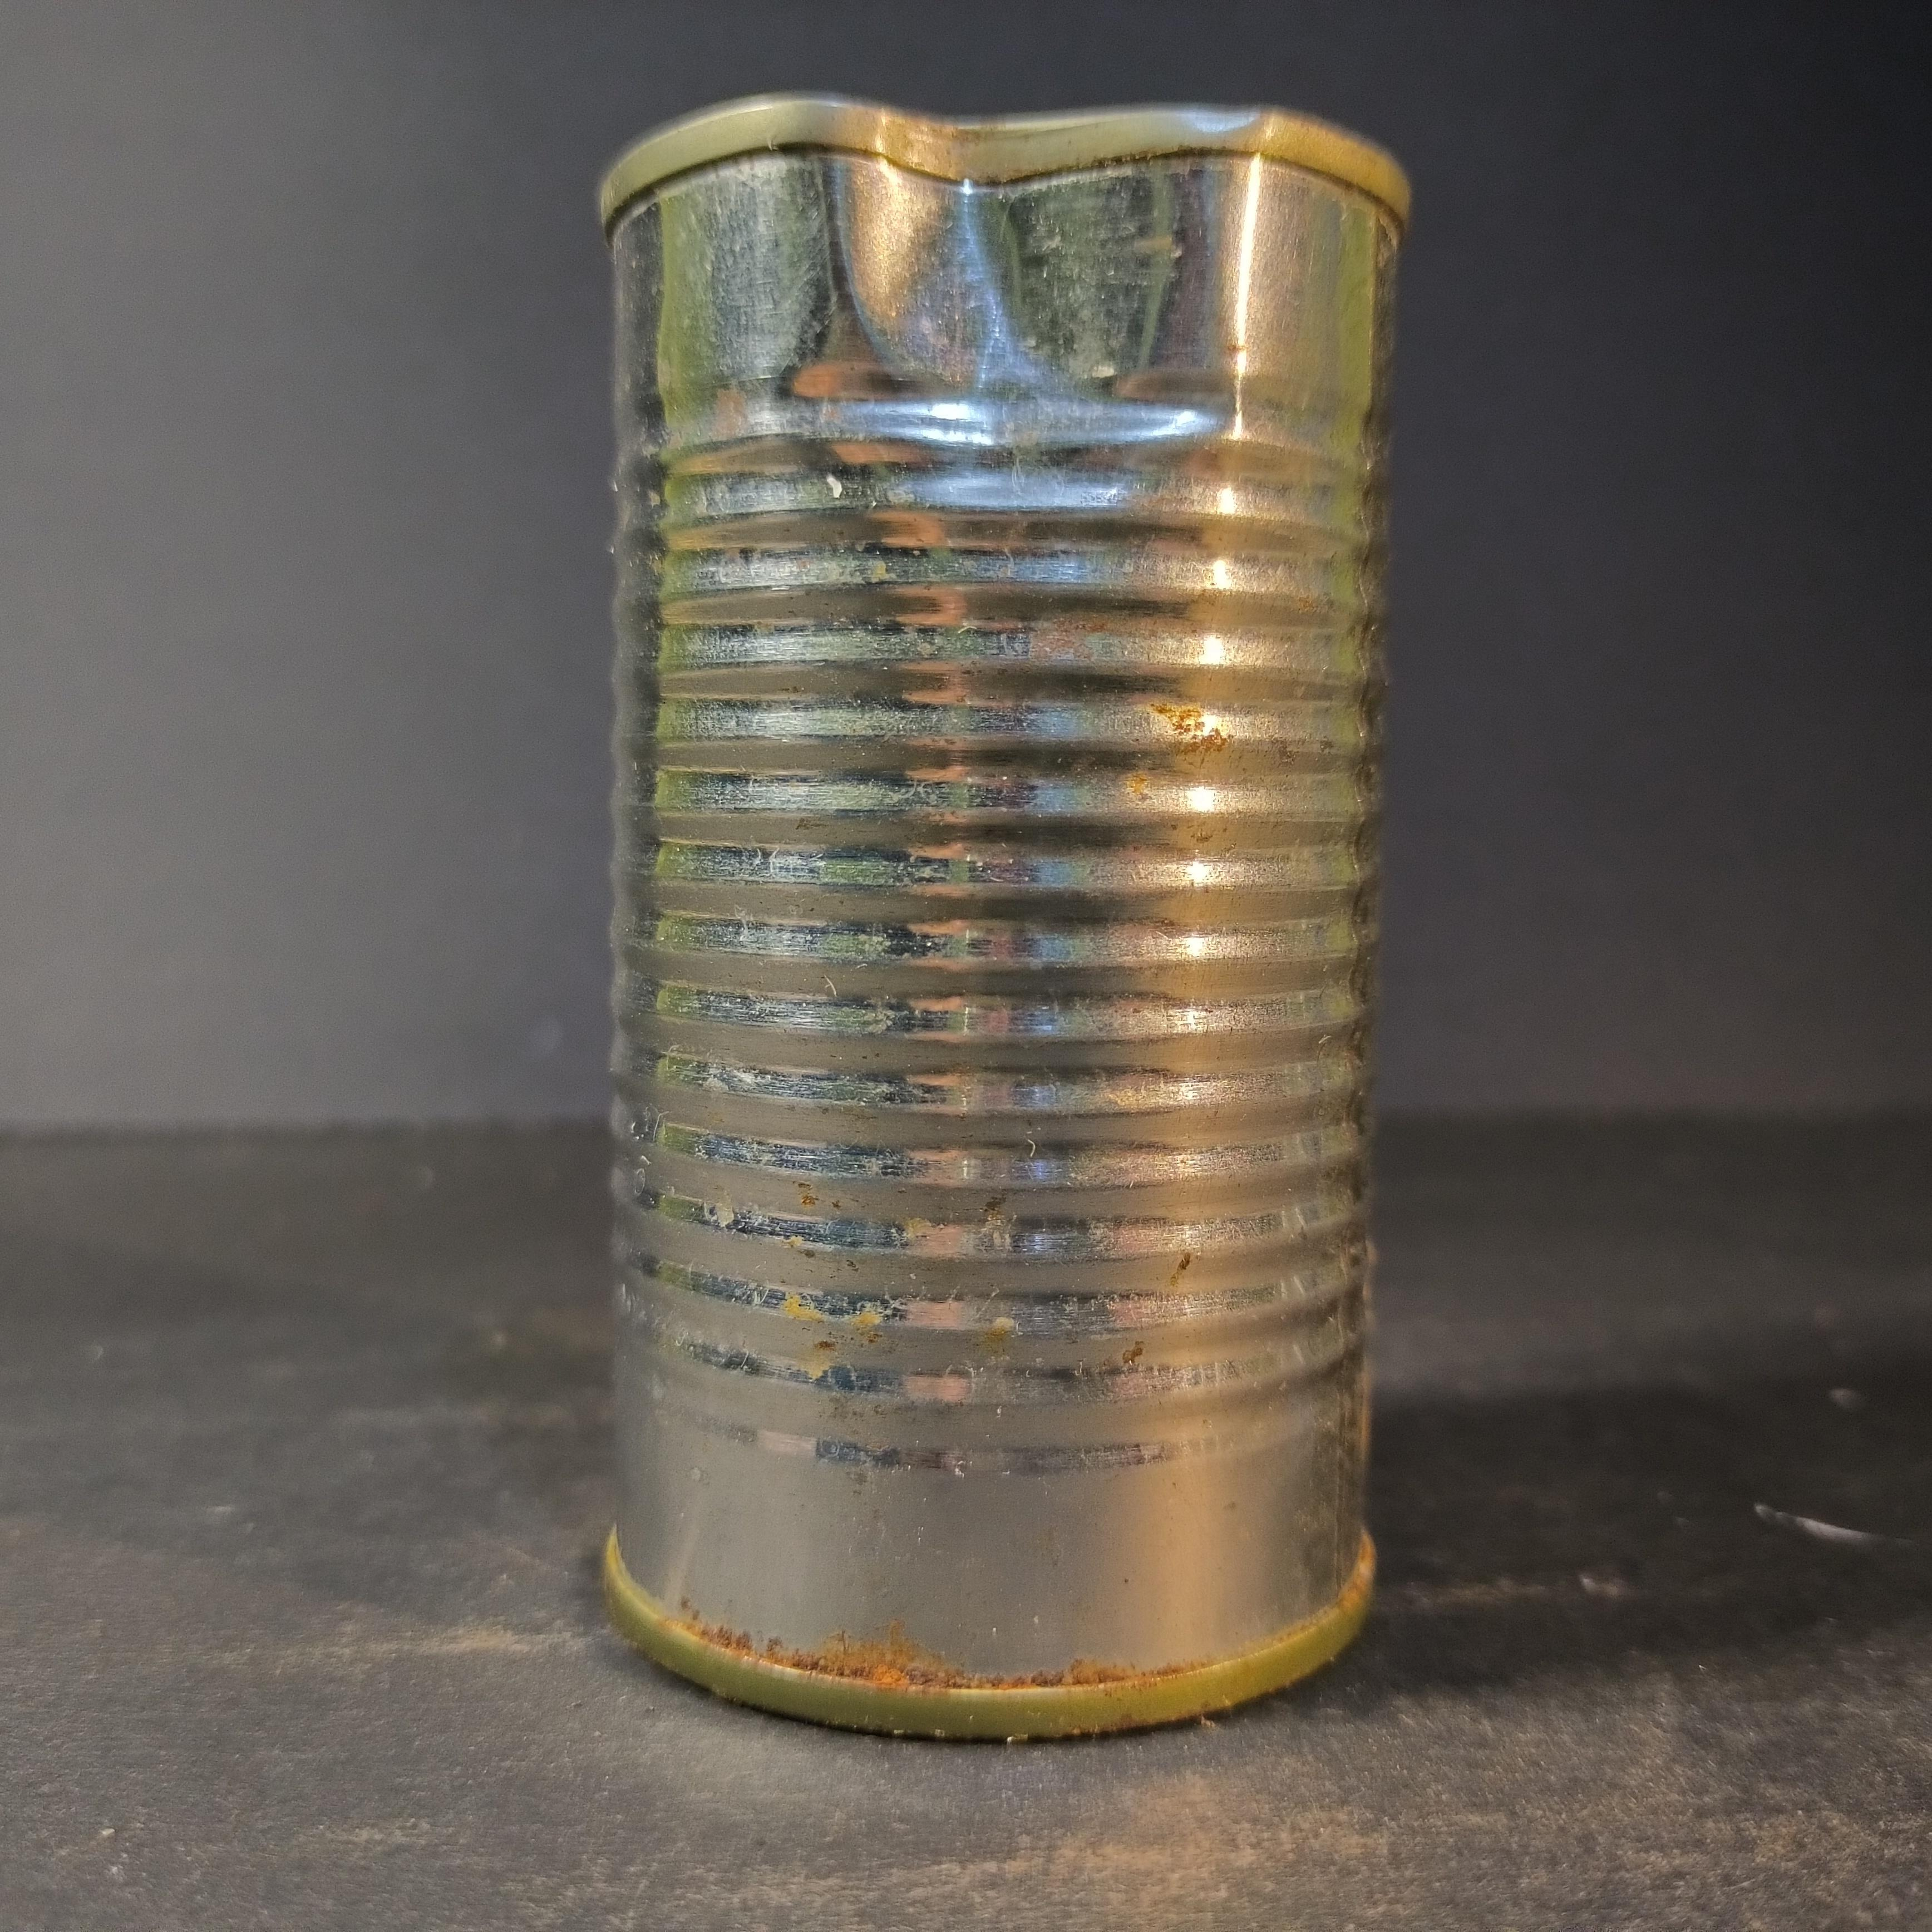Dented: (550, 48, 1453, 1780)
